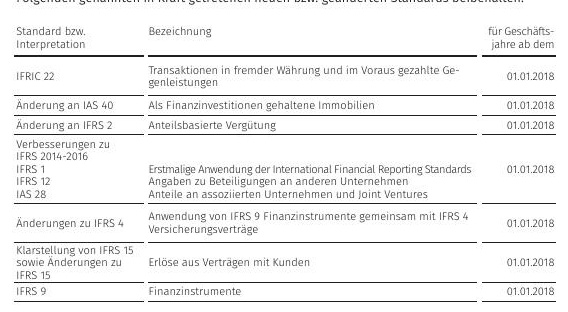table: (0, 0, 568, 312)
